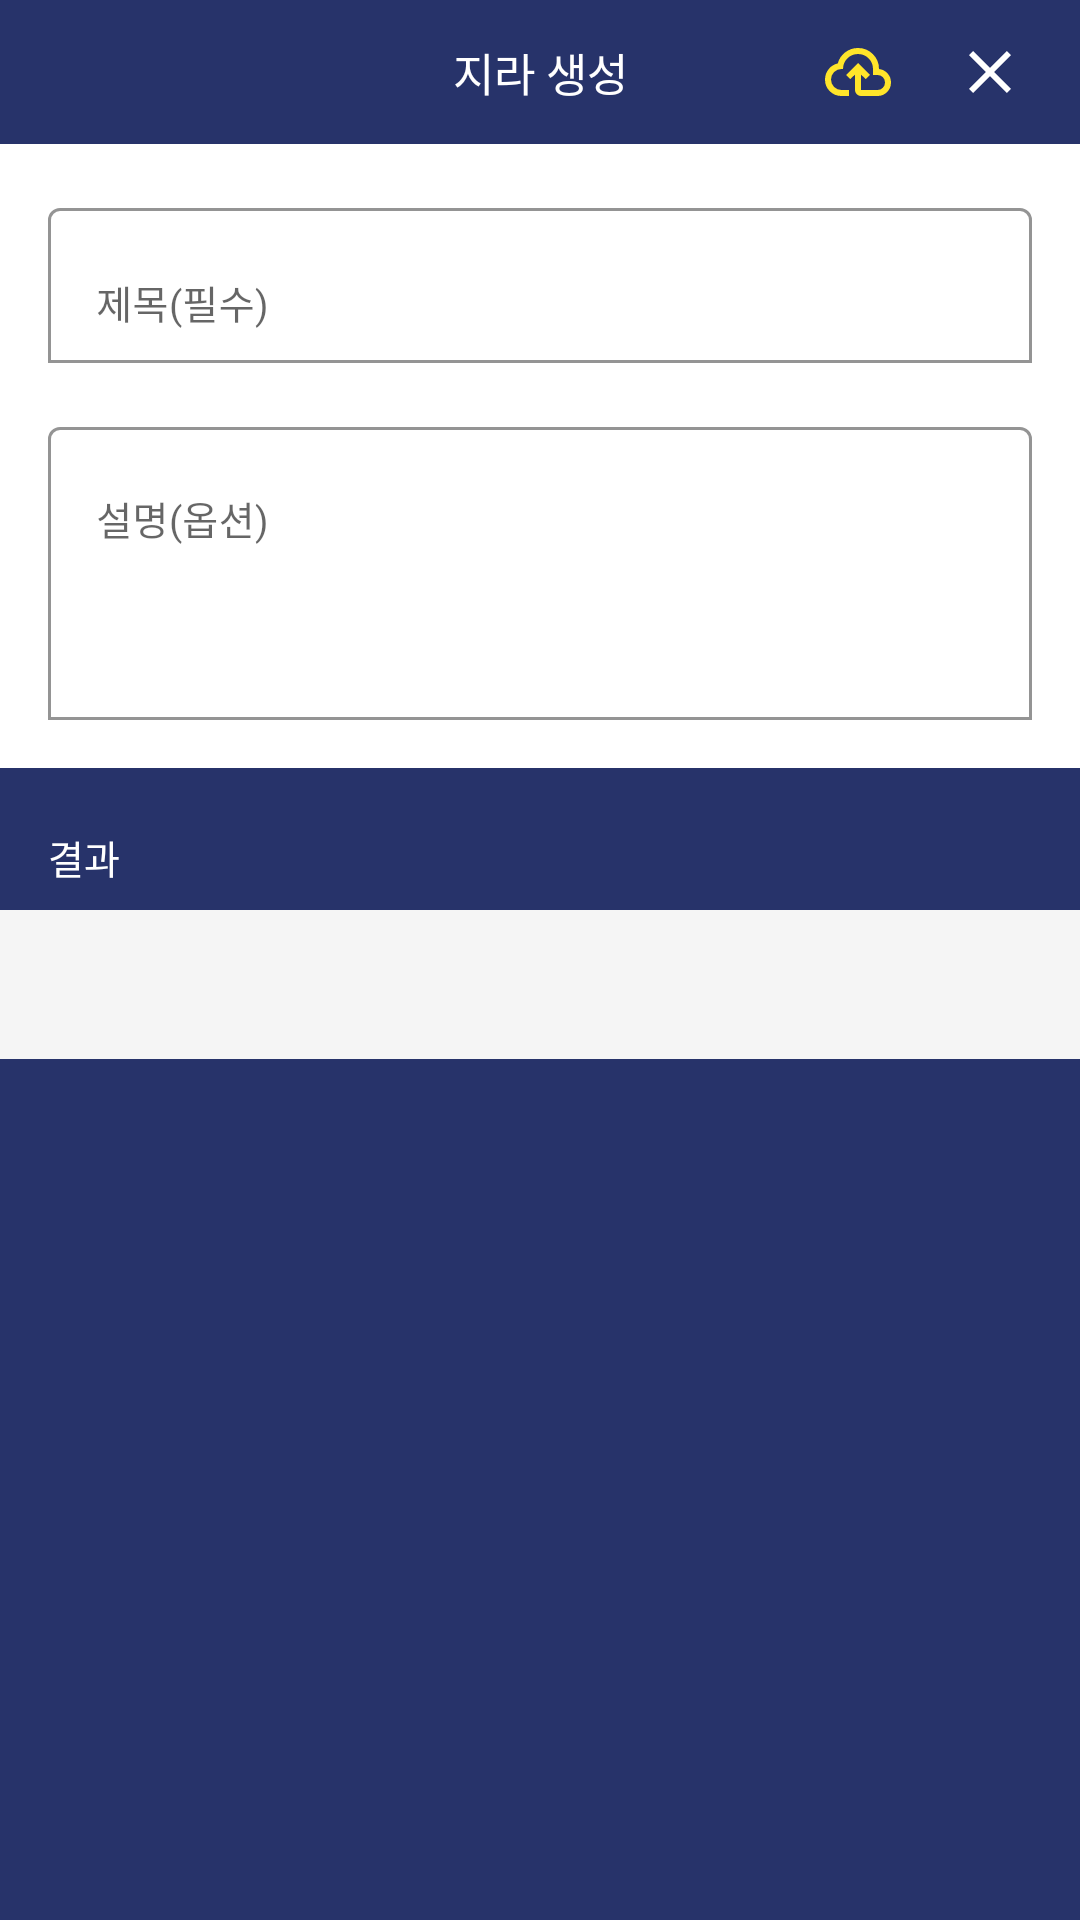

Icon click points for this 1080px×1920px phone screenshot, format point (x, y):
qal close: point (990, 72)
qal cloud upload: point (858, 72)
